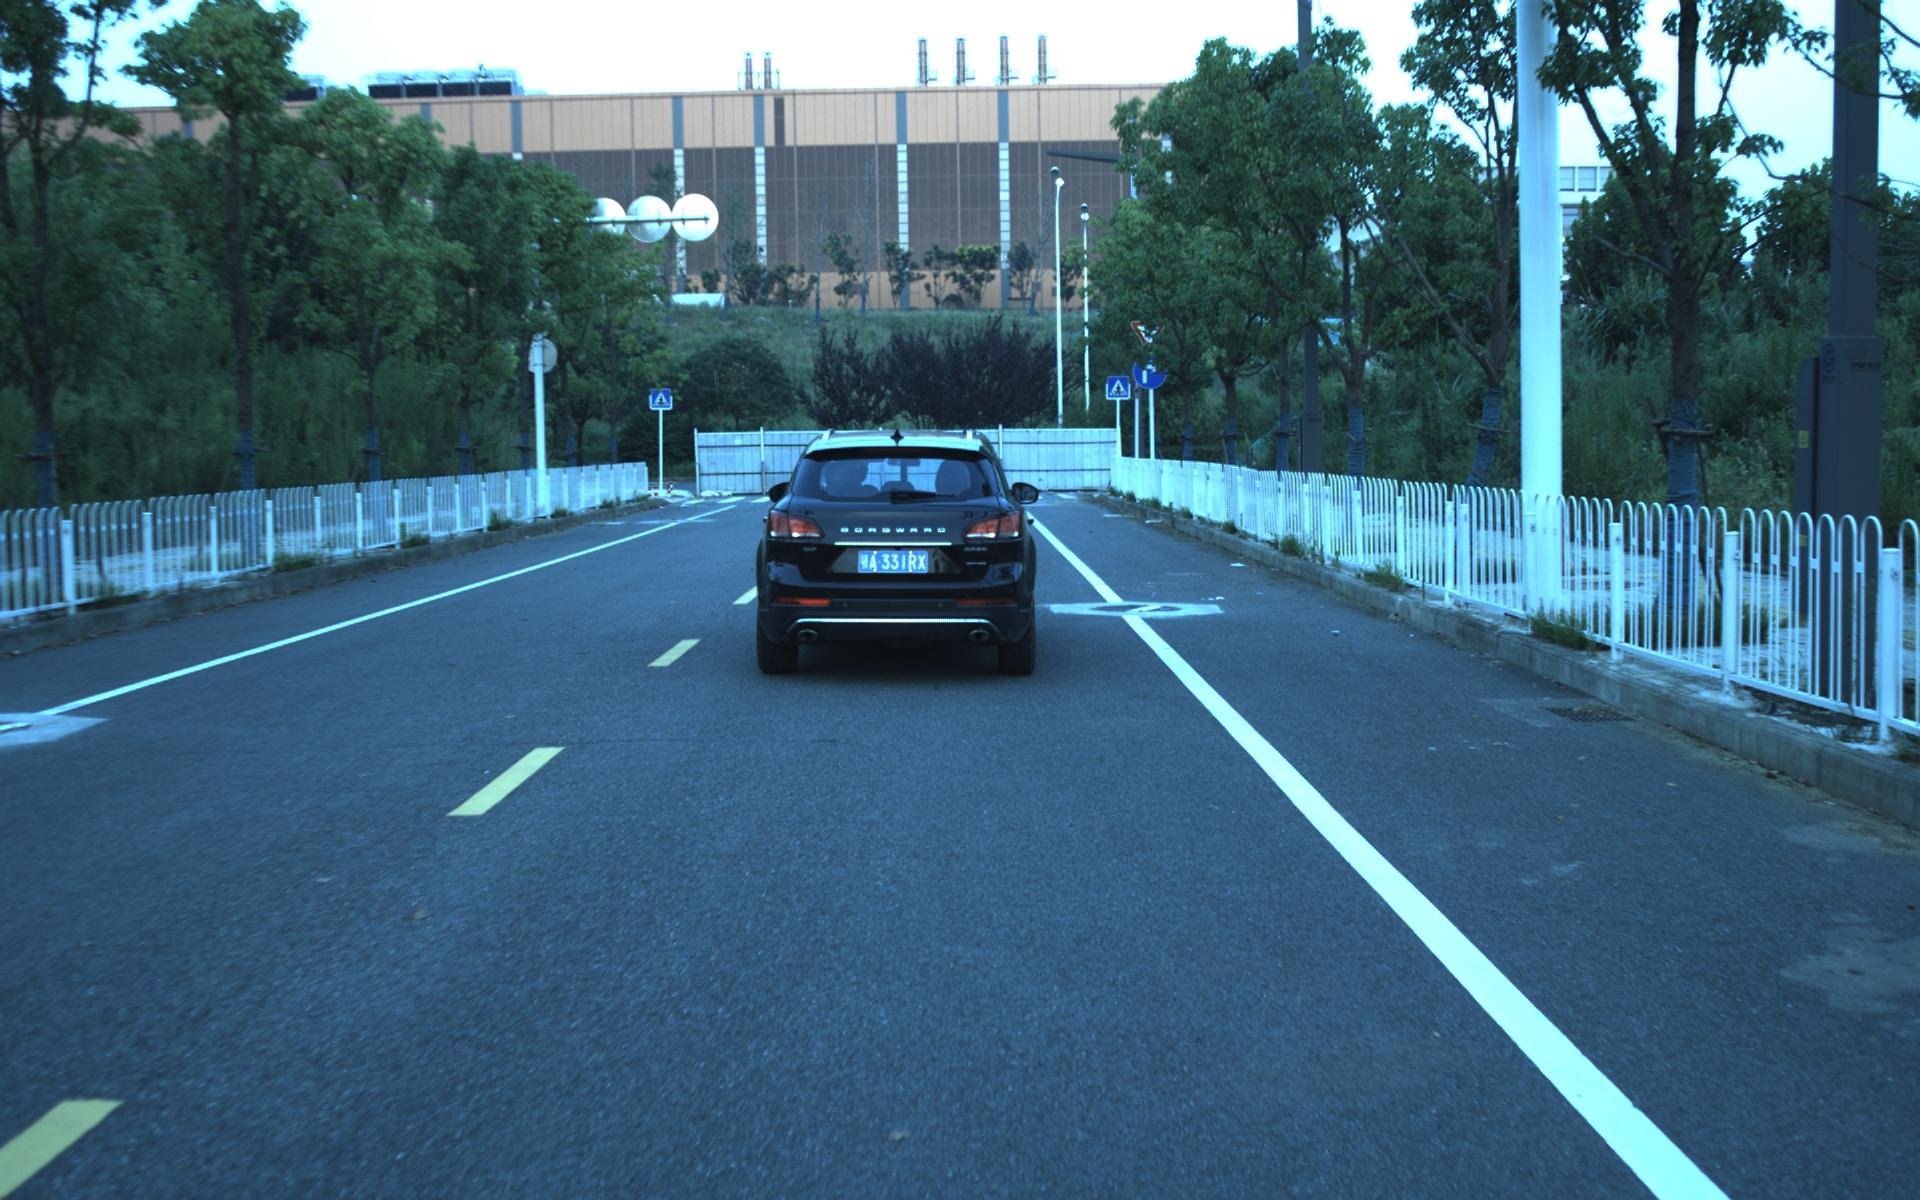Car: (752, 420, 1039, 676)
